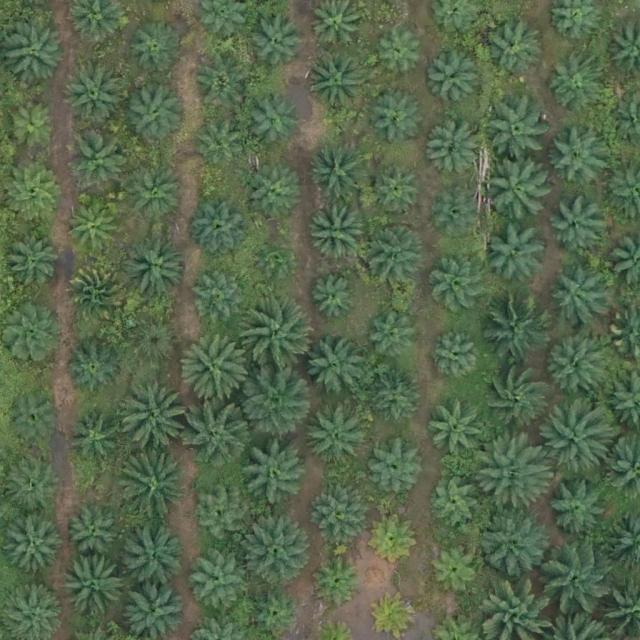Healthy: (482, 158, 553, 229), (544, 408, 614, 479), (480, 364, 550, 435), (482, 298, 552, 369), (244, 301, 314, 372), (240, 369, 310, 440), (240, 438, 311, 508), (241, 515, 312, 585), (184, 398, 255, 468), (118, 384, 188, 455), (115, 455, 186, 525), (545, 547, 615, 617), (477, 507, 547, 577), (477, 435, 547, 505), (182, 333, 252, 403), (307, 202, 370, 265), (304, 403, 367, 466), (190, 198, 253, 261), (4, 159, 67, 222), (124, 79, 187, 142), (480, 22, 543, 85), (545, 473, 607, 536), (490, 223, 552, 286), (427, 401, 489, 464), (361, 223, 423, 286), (304, 337, 366, 400), (123, 234, 185, 297), (121, 528, 183, 591), (63, 558, 125, 621), (6, 19, 68, 82), (66, 127, 128, 190), (63, 65, 125, 128), (123, 162, 185, 225), (307, 53, 369, 116), (309, 141, 371, 204), (490, 100, 552, 163), (542, 337, 604, 399), (547, 124, 609, 186), (428, 329, 483, 385), (548, 198, 603, 253), (549, 271, 604, 326), (433, 261, 488, 316), (368, 372, 423, 427), (367, 306, 422, 361), (124, 317, 179, 372), (7, 389, 62, 444), (65, 408, 120, 463), (426, 542, 481, 597), (312, 484, 367, 539), (191, 559, 246, 614), (193, 274, 248, 329), (2, 234, 57, 289), (65, 202, 120, 257), (68, 341, 123, 396), (68, 502, 123, 557), (7, 96, 62, 151), (128, 23, 183, 78), (193, 119, 248, 174), (195, 59, 250, 114), (251, 16, 306, 71), (246, 96, 301, 151), (370, 164, 425, 219), (370, 90, 425, 145), (428, 56, 483, 111), (428, 478, 482, 533), (367, 441, 421, 496), (195, 490, 249, 545), (6, 458, 60, 513), (8, 521, 62, 576), (250, 169, 304, 224), (375, 25, 429, 80), (427, 123, 481, 178), (547, 59, 601, 114)
Small: (311, 275, 358, 322), (316, 557, 363, 604), (436, 192, 483, 239), (255, 240, 294, 279)
Yellow: (69, 263, 131, 325), (372, 593, 419, 640), (372, 517, 419, 564)
